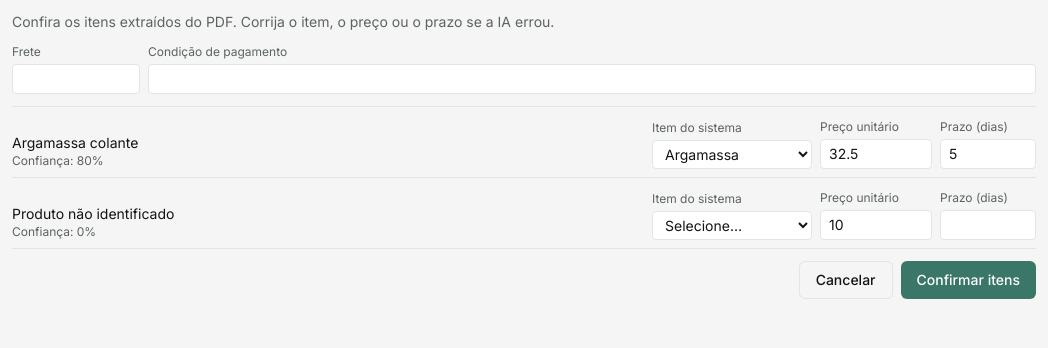
Test: ExtractedItemsReview › não confirma itens sem item do sistema selecionado
This screenshot has width=1048, height=348.
What coordinates should you click on to do the following:
click the button "Confirmar itens"
I would click on:
 (968, 280)
Its box is x1=900 y1=261 x2=1036 y2=299.
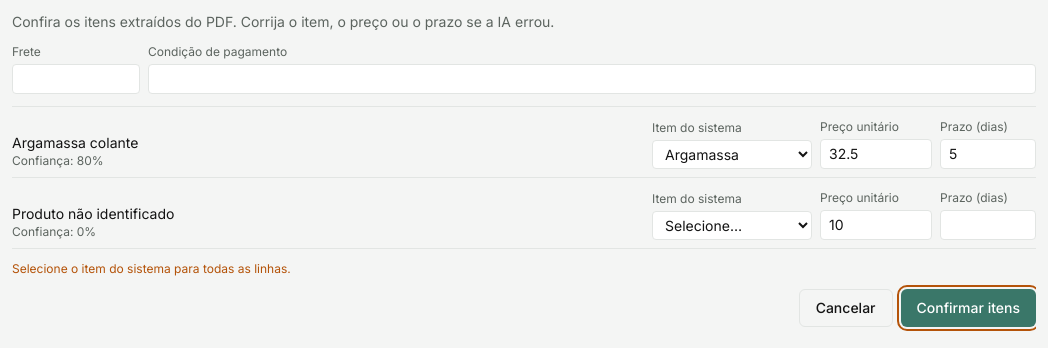
Check: the text "Selecione o item do sistema para todas as linhas." is shown, box x1=12 y1=261 x2=291 y2=276
